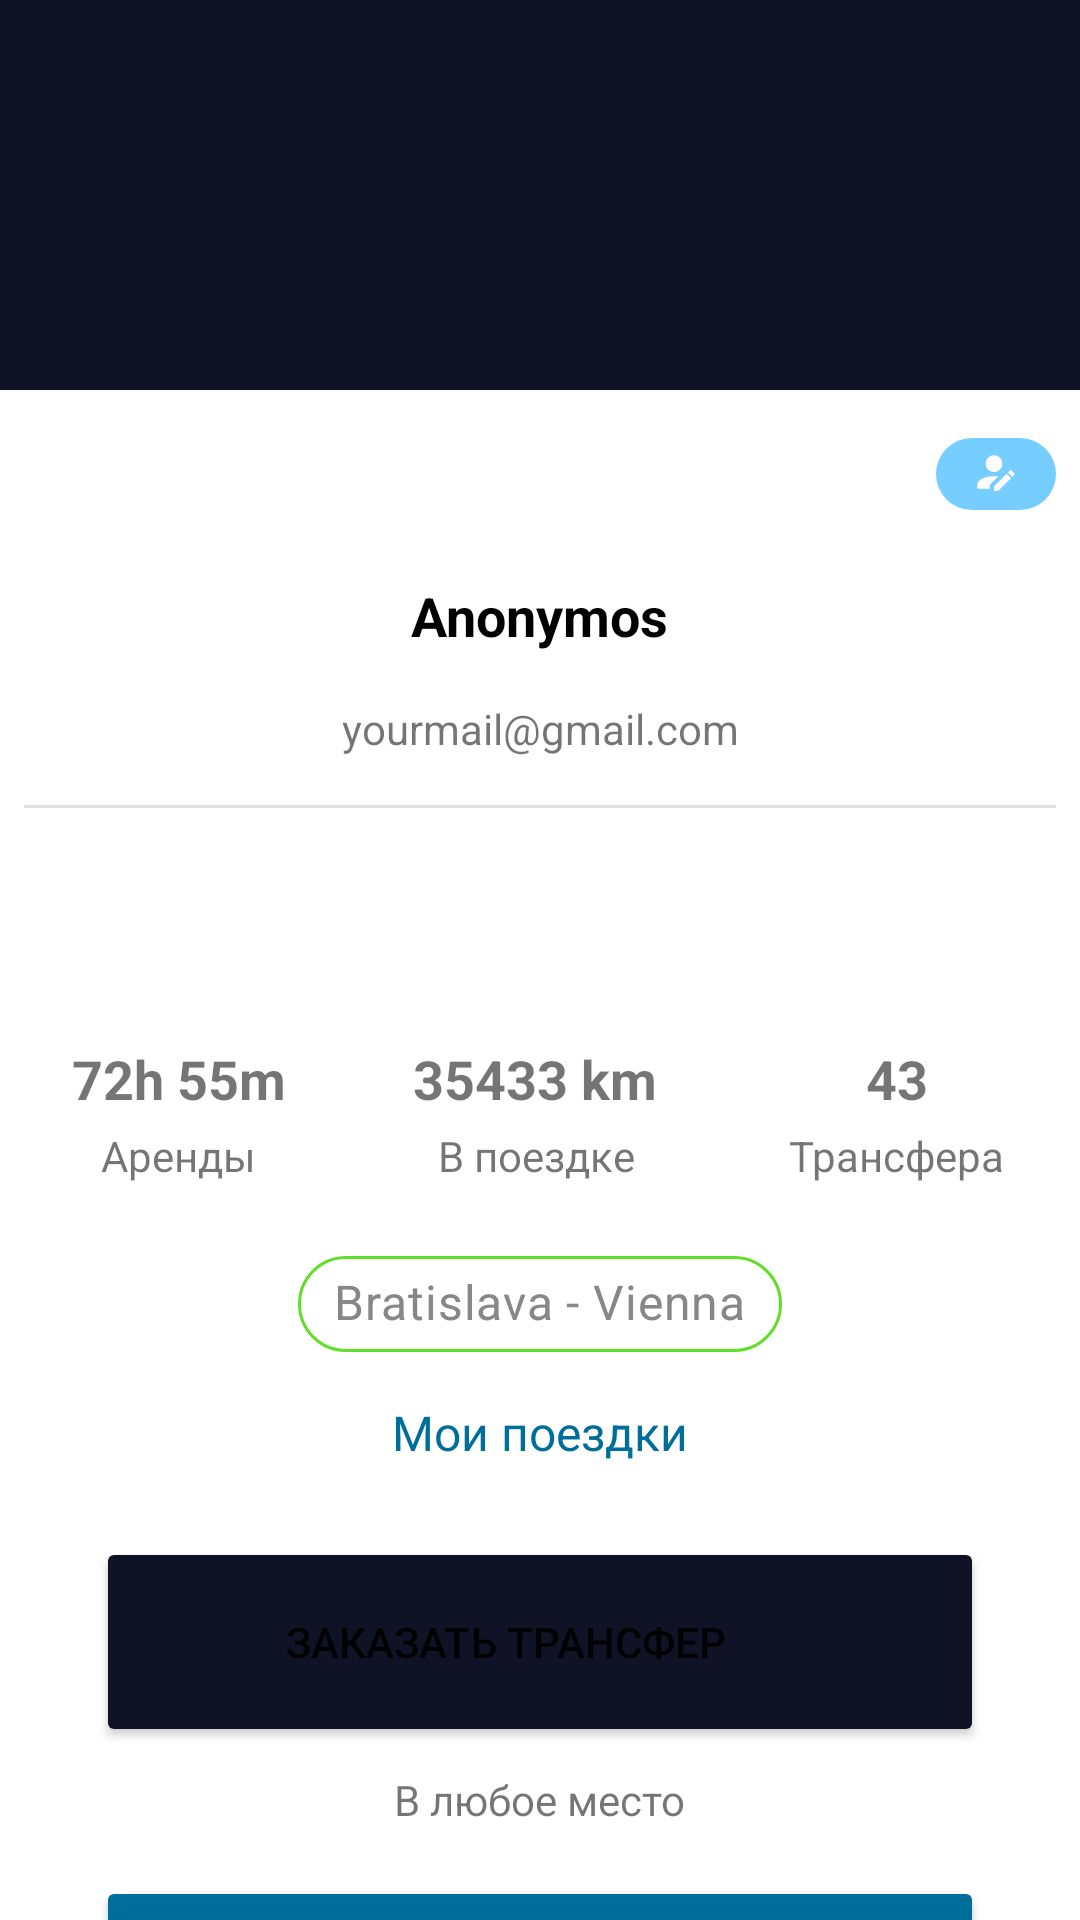

Named icons in this screenshot (1080*1920) and their centers, [x,y]:
edit profile: [996,473]
